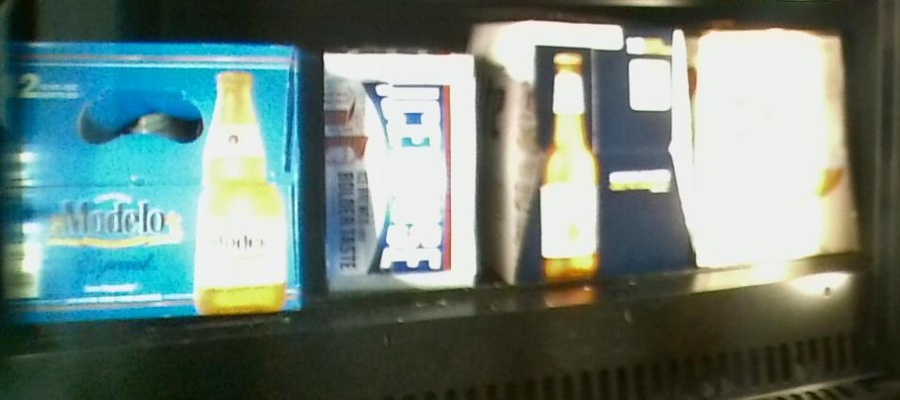bottle: (1, 40, 303, 314), (475, 21, 689, 284), (695, 25, 853, 275), (318, 49, 481, 290)
